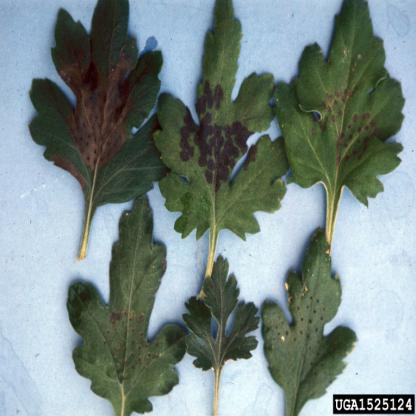tomato leaf bacterial spot: (269, 3, 404, 239), (61, 182, 196, 407), (260, 210, 370, 405), (184, 259, 261, 399)
